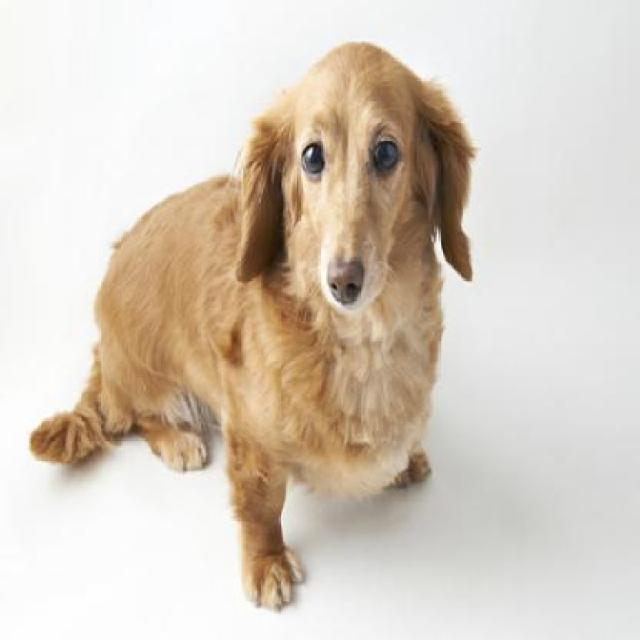Dog: (31, 31, 482, 611)
